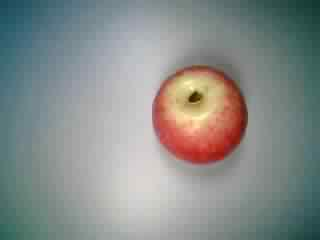apple: (147, 64, 253, 163)
